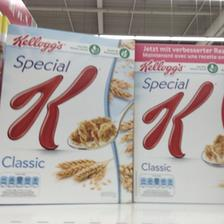Cerealien: (0, 23, 134, 203), (133, 41, 223, 205)
